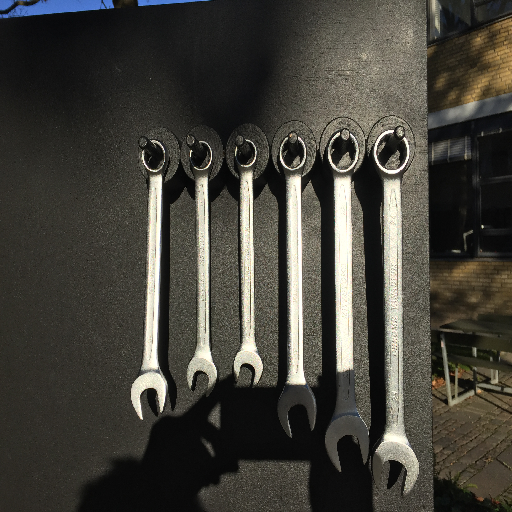bottom: (370, 434, 421, 500), (322, 413, 371, 472), (276, 382, 317, 439), (129, 367, 169, 420), (185, 353, 217, 401), (233, 346, 263, 389)
top: (371, 128, 411, 177), (322, 129, 361, 174), (277, 134, 307, 175), (140, 138, 171, 177), (186, 138, 215, 177), (232, 137, 259, 172)
